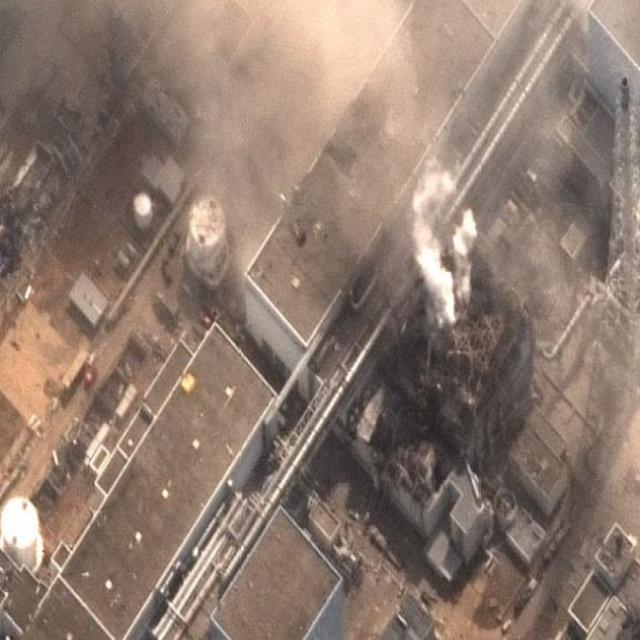Fire: (415, 182, 472, 324)
